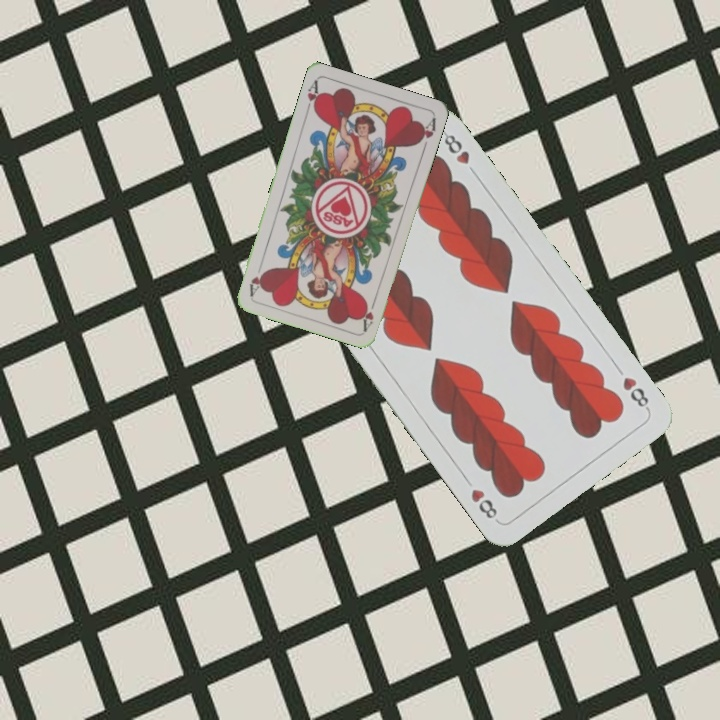H8: (618, 373, 652, 413)
HA: (302, 76, 323, 117), (359, 293, 379, 333)
